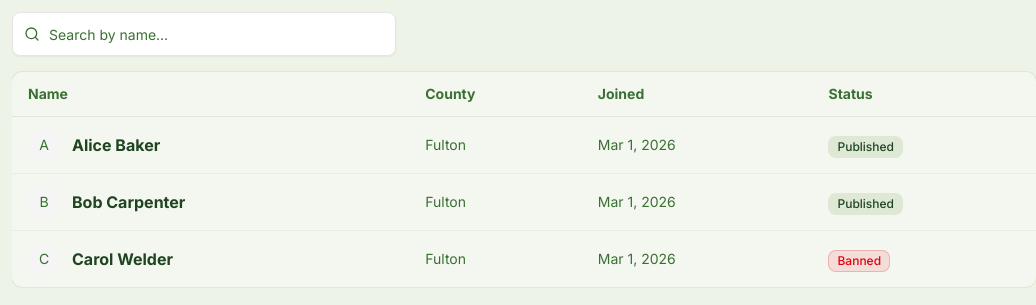
Test case: ADMIN-02 — MembersTable filters by display_name › filters rows to those whose display_name contains the query (case-insensitive)
Type "alice" into the field named "Search members by display name".
click(204, 34); type("alice")  # box 12,12 -> 396,56
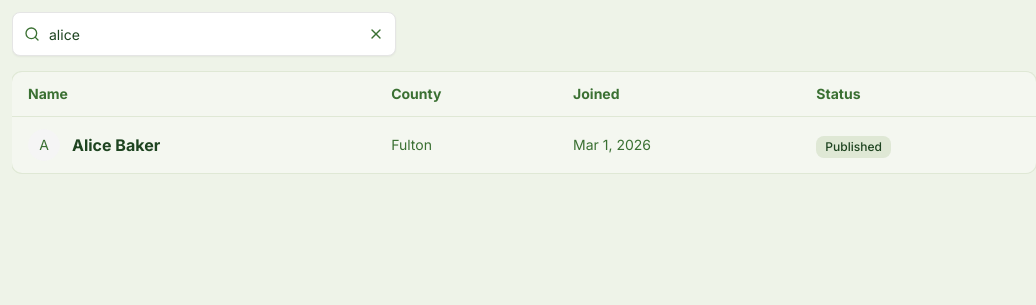
Expected: the text "Alice Baker" is shown, 72,133 -> 160,157
Expected: the link "Bob Carpenter" is gone
Expected: the link "Carol Welder" is gone
